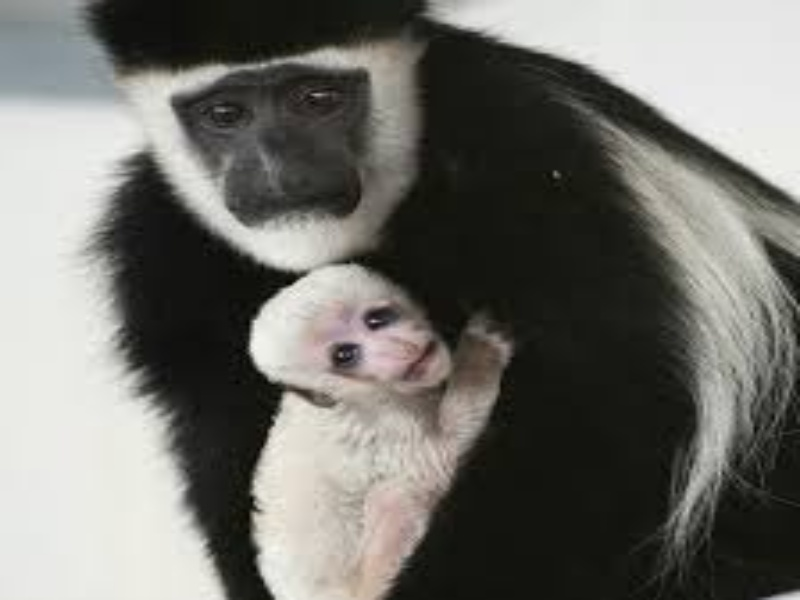monkey: (115, 1, 445, 330), (225, 267, 531, 573)
